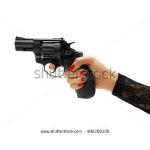Pistol: (12, 34, 96, 100)
